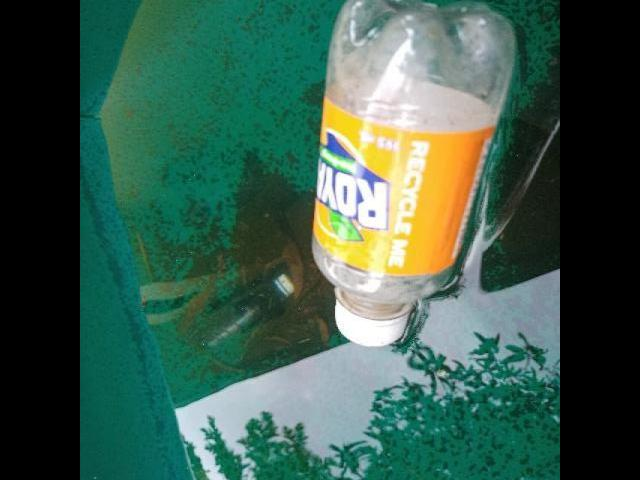Bottle: (305, 0, 527, 353)
